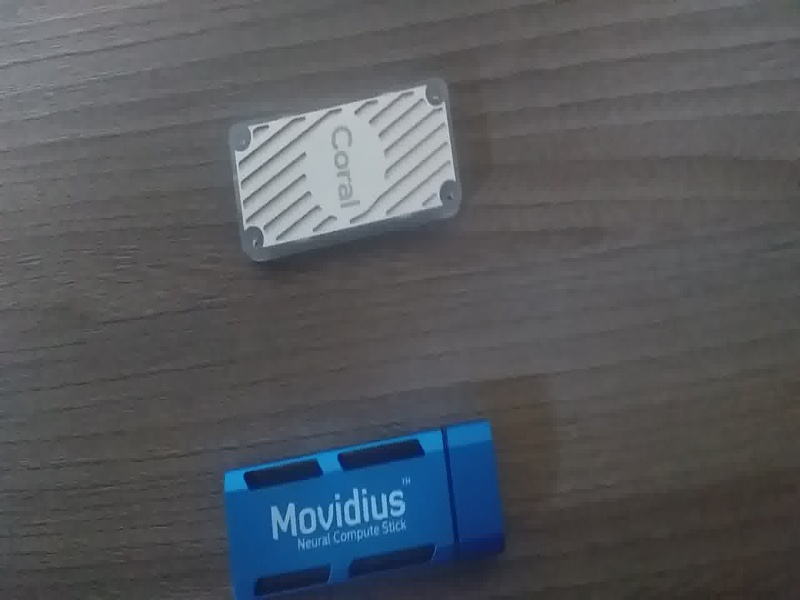coral: (222, 85, 479, 277)
movidius: (208, 415, 524, 600)
